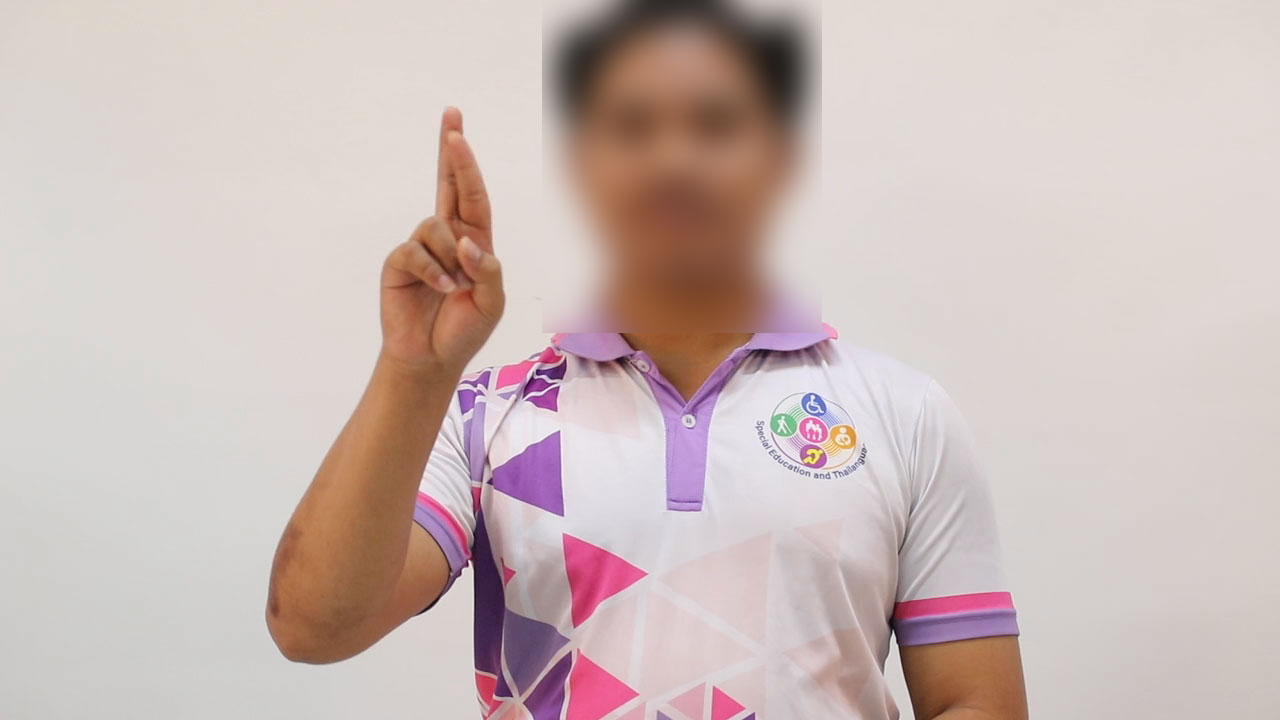rao: (351, 100, 515, 372)
